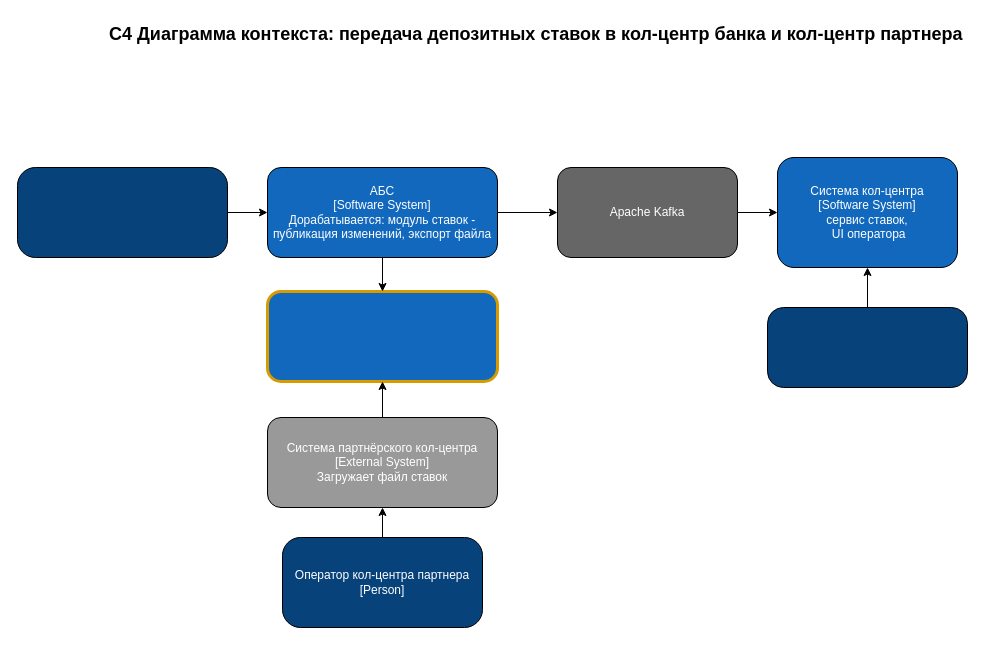
This 985x645 diagram has some shape labels left out. Here are the shapes that lost their labels. From the top down, the box of each, then its label:
(16, 166, 228, 258): Менеджер бэк-офиса депозитов [Person] Утверждает ставки в АБС
(266, 290, 498, 382): SFTP-сервер банка [Infrastructure] Файлы ставок для партнёра
(766, 306, 968, 388): Оператор кол-центра банка [Person] Консультирует клиентов по ставкам
